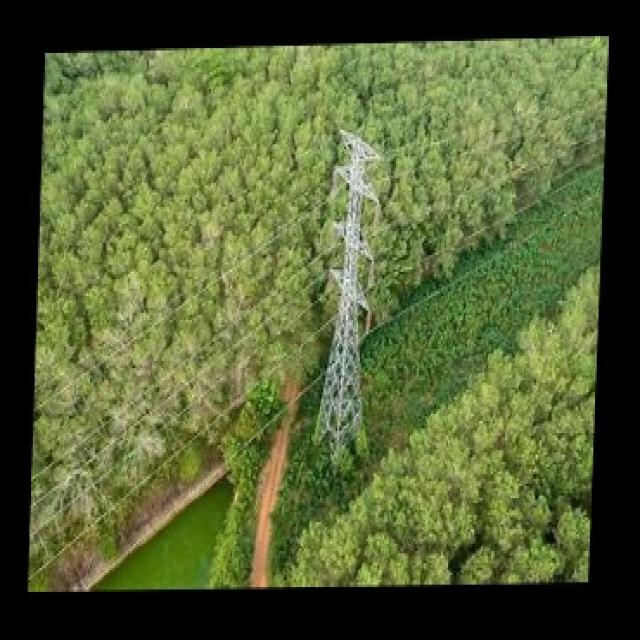utility poles: (309, 88, 392, 471)
